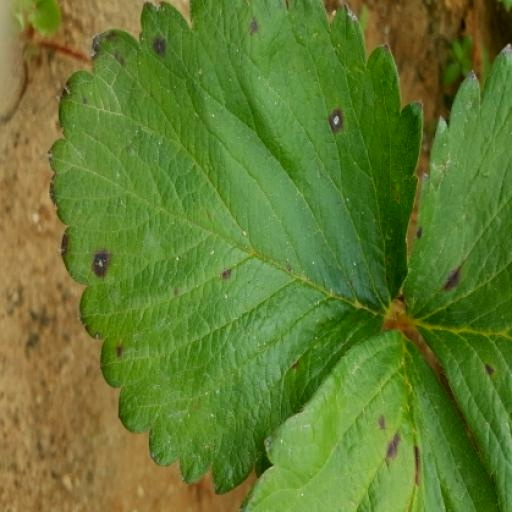Leaf Spot: (89, 17, 465, 511)
